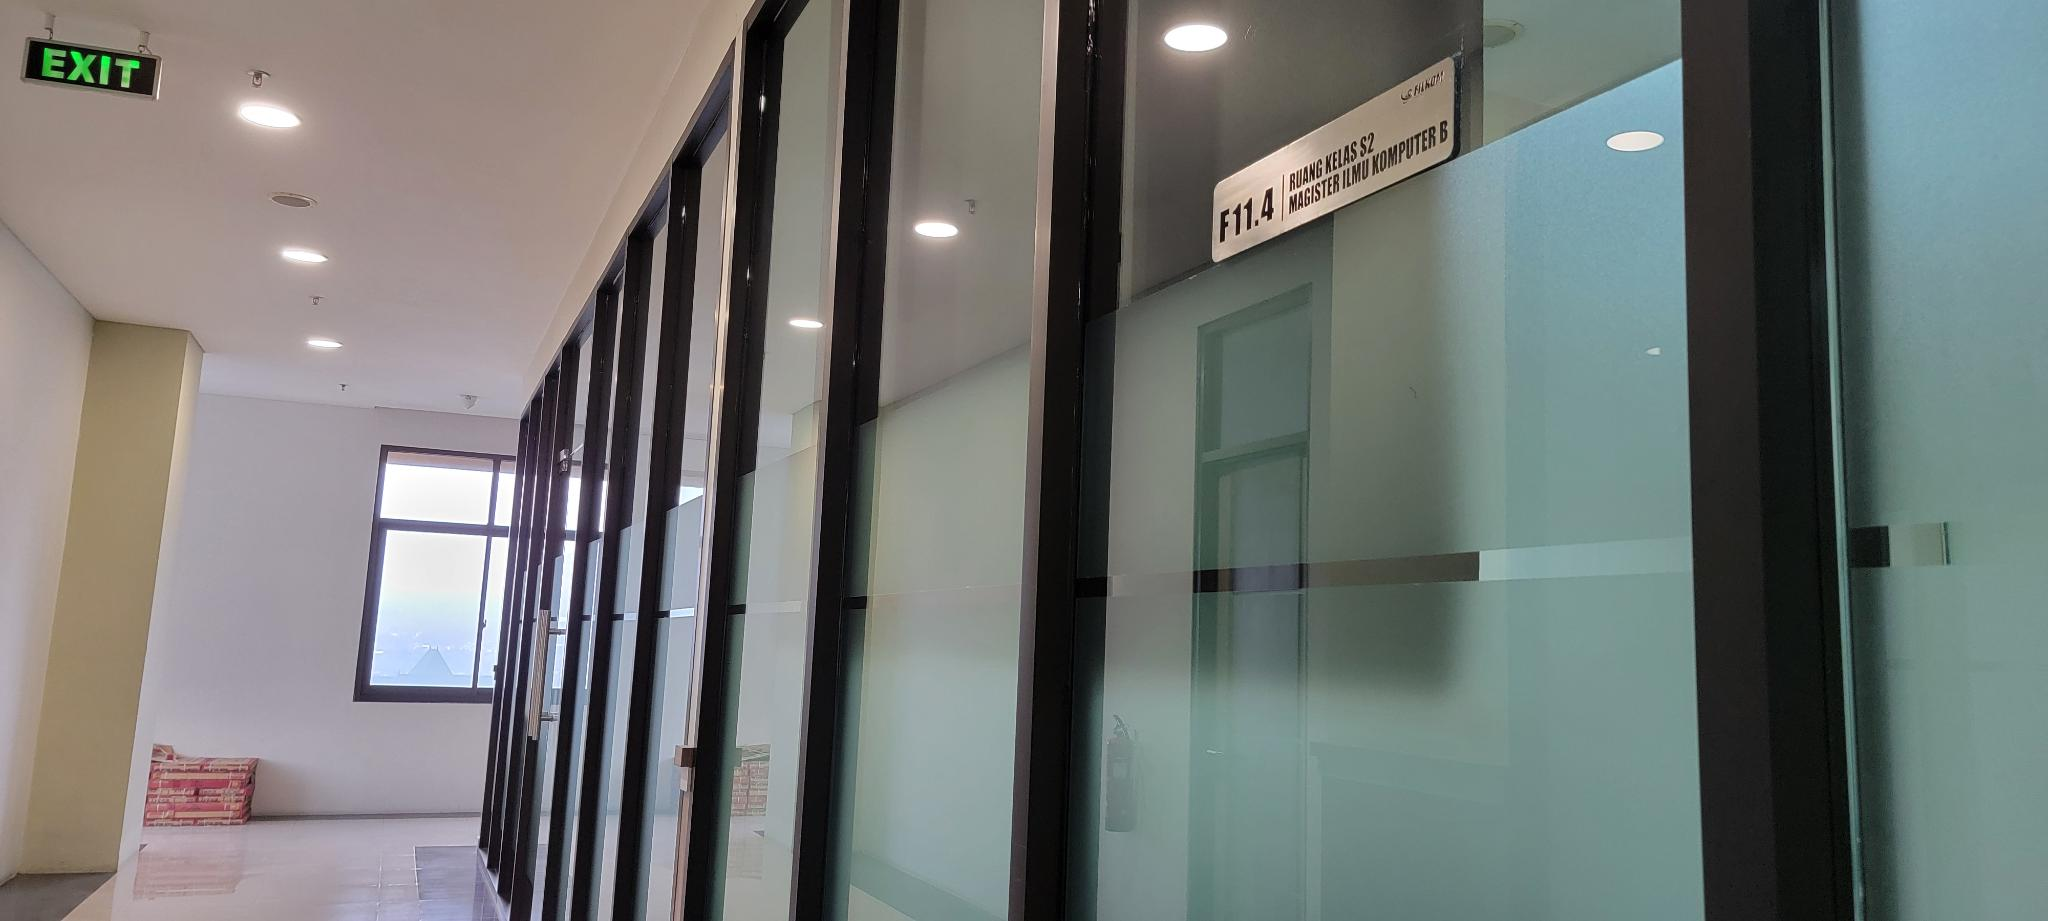plate: (1204, 48, 1459, 268)
